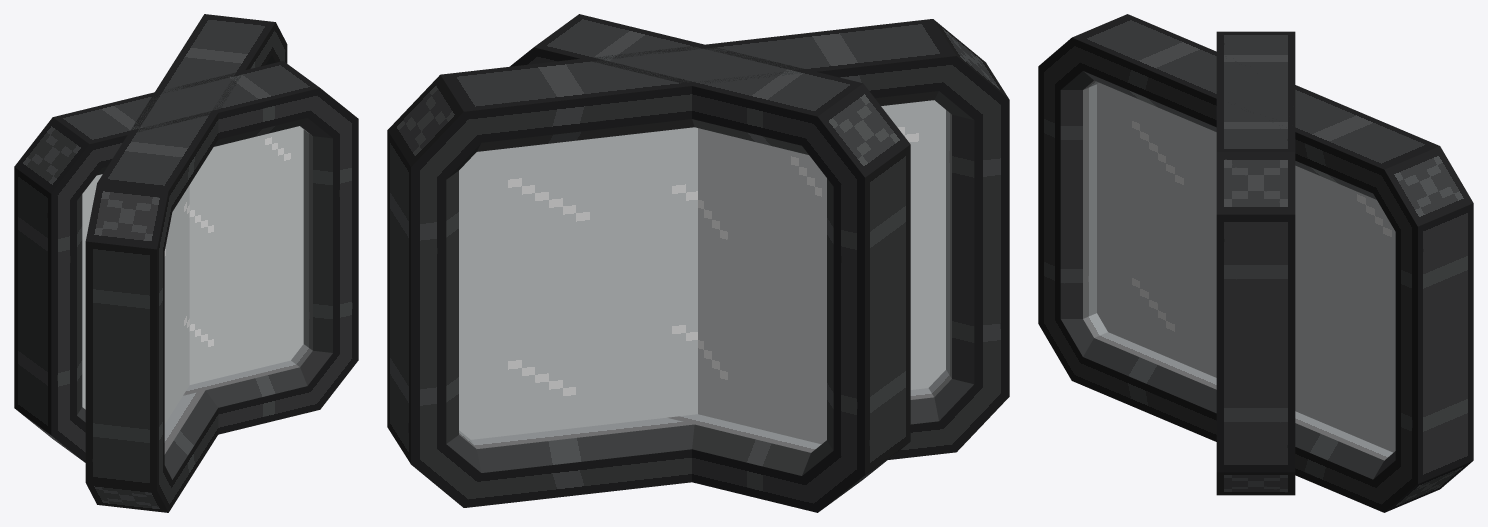
Rendered from mirror.glb.
The picture shows the model from 3 angles, left to right: view 1: azimuth 30°, elevation 25°; view 2: azimuth 150°, elevation 25°; view 3: azimuth 270°, elevation 25°; orthographic projection. The views are drawn at different scales.
Visible parts, largest first — view 1: frame (×2), mirror (×2); view 2: frame (×2), mirror (×2); view 3: frame (×2), mirror.
Boxes of the visible parts, <box> form: frame (×2): <box>14,14,358,512</box>; mirror (×2): <box>82,126,303,423</box>; frame (×2): <box>387,14,1009,512</box>; mirror (×2): <box>459,100,945,444</box>; frame (×2): <box>1038,14,1473,512</box>; mirror: <box>1097,82,1395,452</box>.
Size of the model in its own units: 1.72 by 1.5 by 1.72.
1 material, 1 textured.
